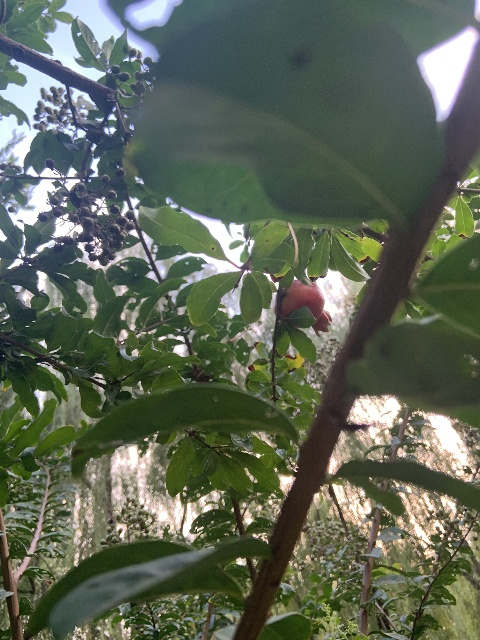ripe: (273, 279, 331, 336)
